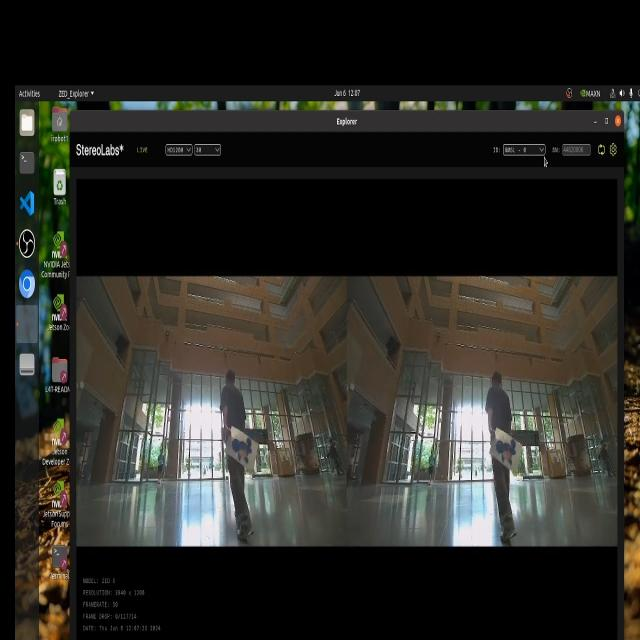blue: (230, 432, 261, 466), (500, 431, 516, 474)
